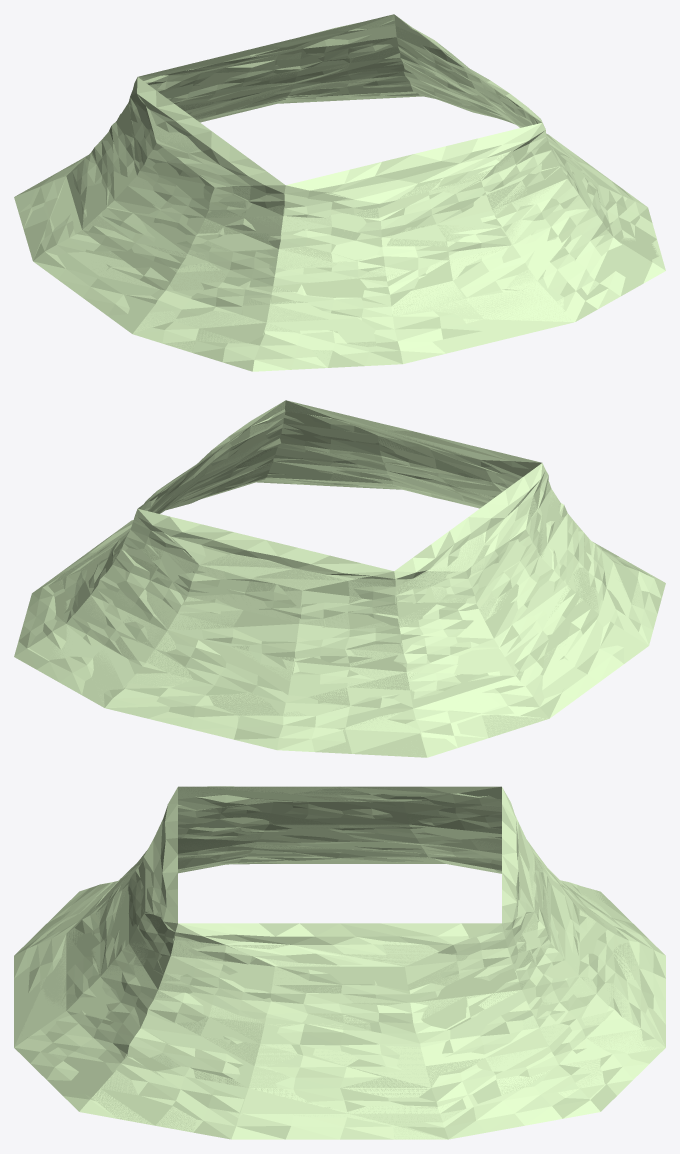
File: Bottomland.fbx
The picture shows the model from 3 angles, top to bottom: view 1: azimuth 30°, elevation 25°; view 2: azimuth 150°, elevation 25°; view 3: azimuth 270°, elevation 25°; orthographic projection. The views are drawn at different scales.
Parts seen in each view (by area): view 1: BottomLand_1, BottomLand_2, BottomLand_3, BottomLand_4; view 2: BottomLand_1, BottomLand_2, BottomLand_3, BottomLand_4; view 3: BottomLand_1, BottomLand_2, BottomLand_3, BottomLand_4.
Boxes of the visible parts, left/top/right/bottom form: BottomLand_1: left=18, top=14, right=665, bottom=371; BottomLand_2: left=14, top=14, right=661, bottom=367; BottomLand_3: left=14, top=15, right=659, bottom=366; BottomLand_4: left=143, top=15, right=591, bottom=352; BottomLand_1: left=14, top=401, right=665, bottom=751; BottomLand_2: left=39, top=400, right=657, bottom=757; BottomLand_3: left=28, top=400, right=638, bottom=757; BottomLand_4: left=36, top=403, right=529, bottom=623; BottomLand_1: left=14, top=786, right=665, bottom=1139; BottomLand_2: left=14, top=786, right=665, bottom=1139; BottomLand_3: left=14, top=786, right=665, bottom=1139; BottomLand_4: left=14, top=786, right=550, bottom=1138.
Size of the model in its own units: 101 by 101 by 25.
